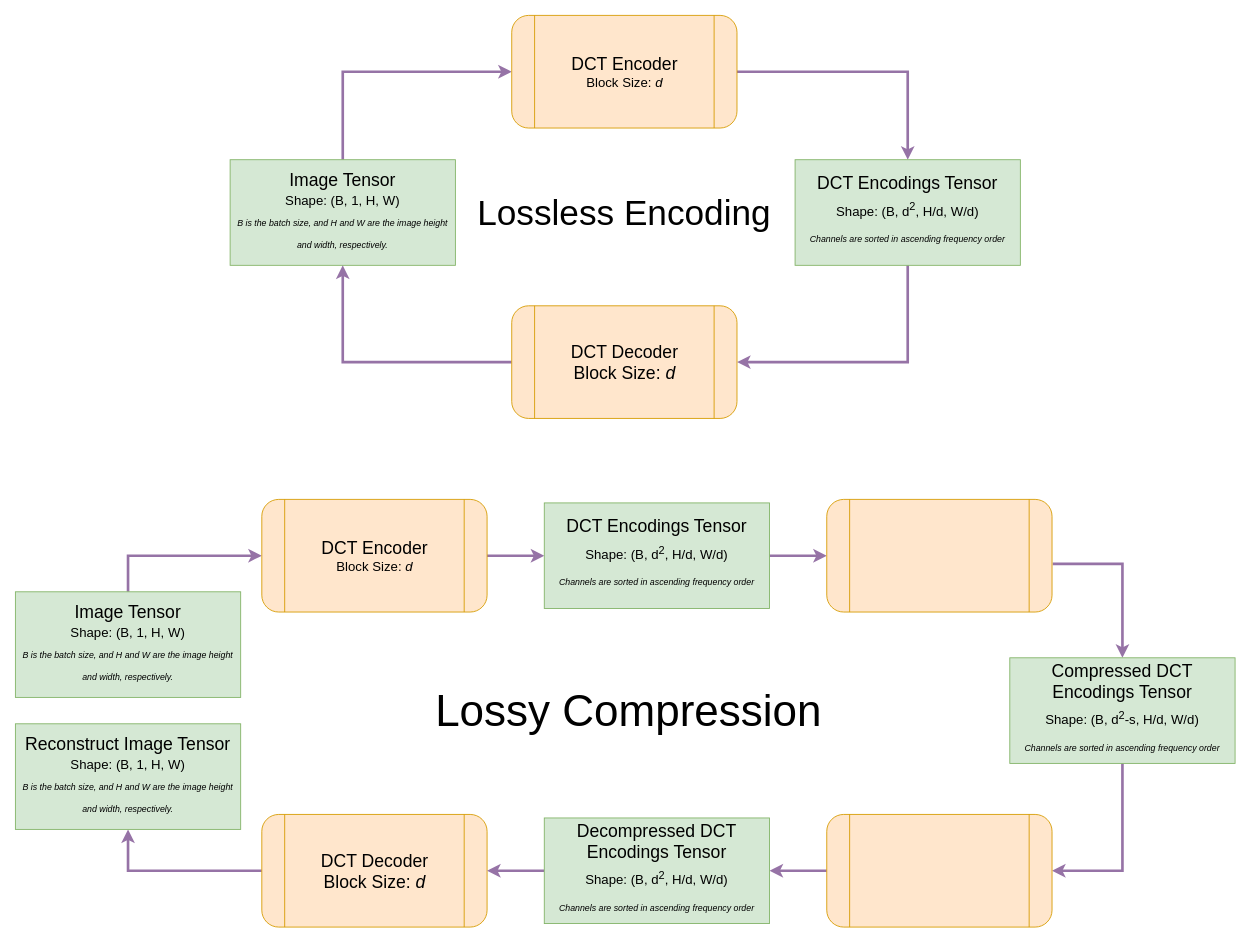
The diagram is 1250 pixels wide and 942 high, and some of its shapes have lost their labels. Here are the shapes that lost their labels. From the top down, the centre of each, then its label:
At (x=939, y=555): "Low-pass filter Stopband: s (0 ≤ s ≤ d 2 )".
At (x=939, y=870): "Zero Padding Padding: s".
